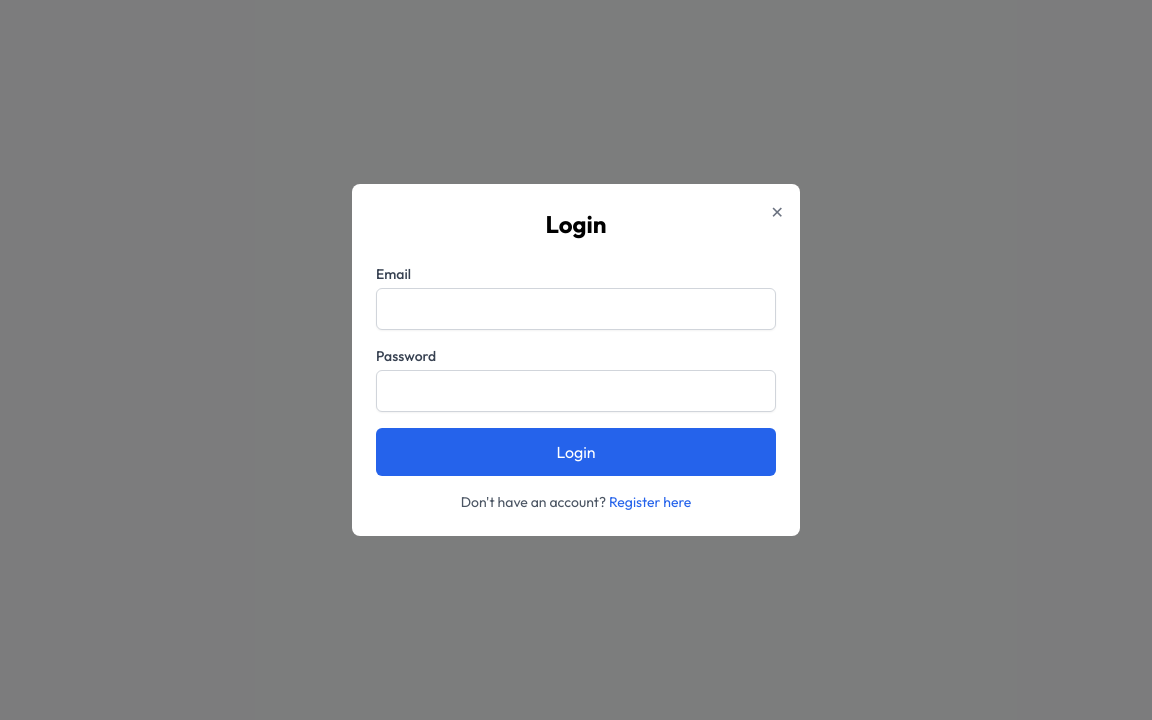
Test: AuthModal Integration Tests › Error Handling › handles network errors gracefully
In the field: (576, 309) x1=376 y1=288 x2=776 y2=330, type "test@stud.noroff.no"
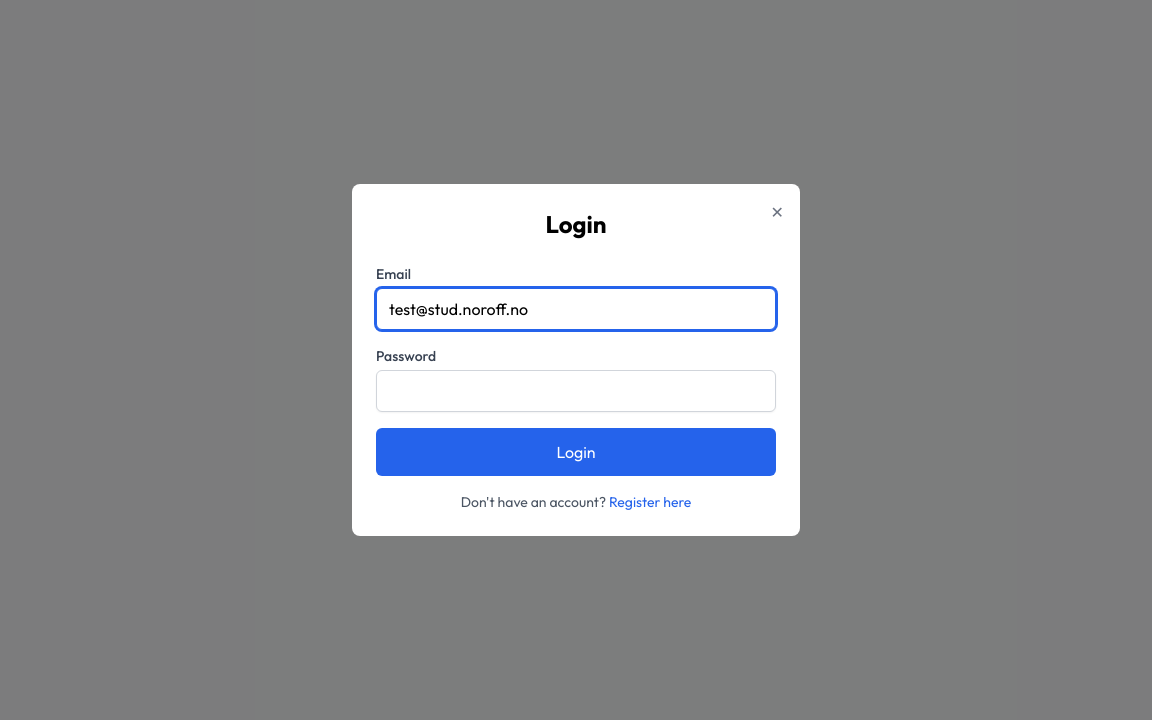
In the password field named "password": (576, 391) x1=376 y1=370 x2=776 y2=412, type "password123"
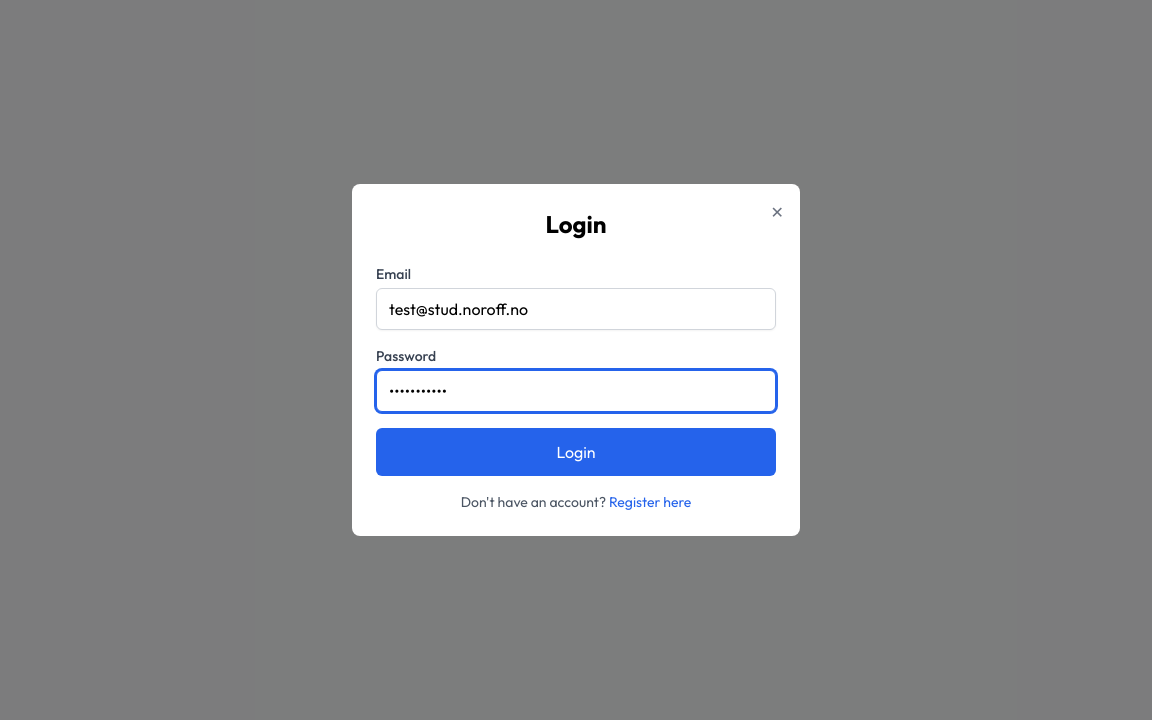
Click the button "Login": (576, 452) x1=376 y1=428 x2=776 y2=476
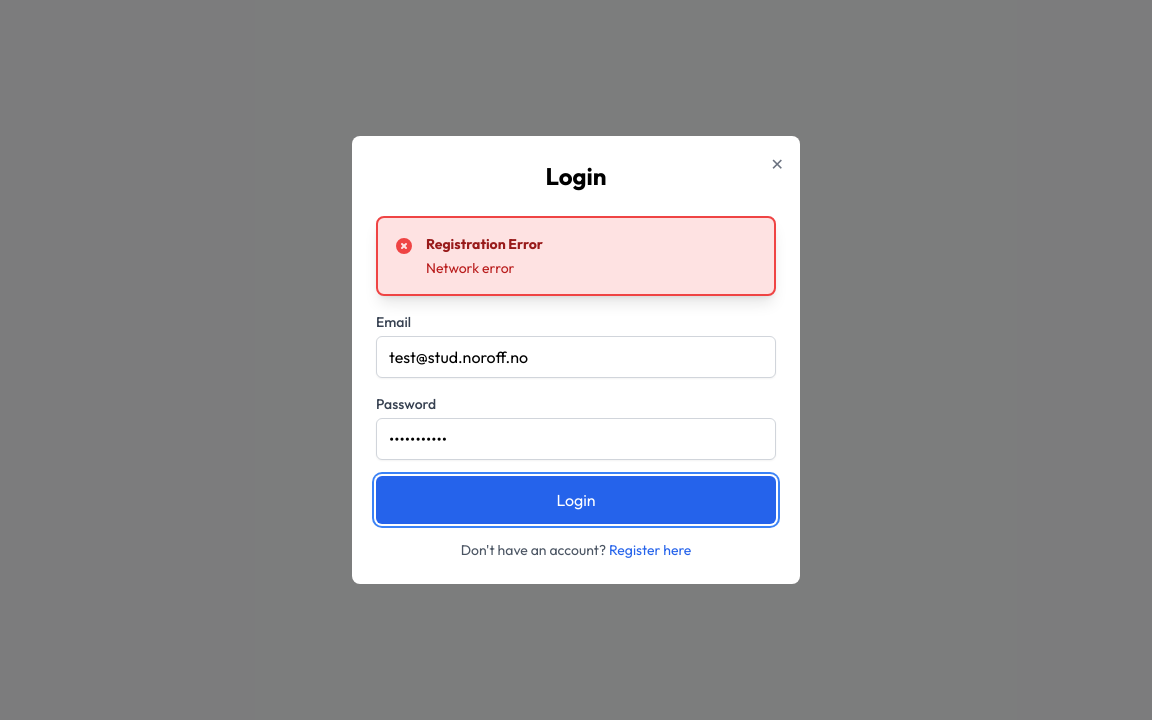
expect the text "Network error" is shown: met, box x1=426 y1=259 x2=514 y2=277
